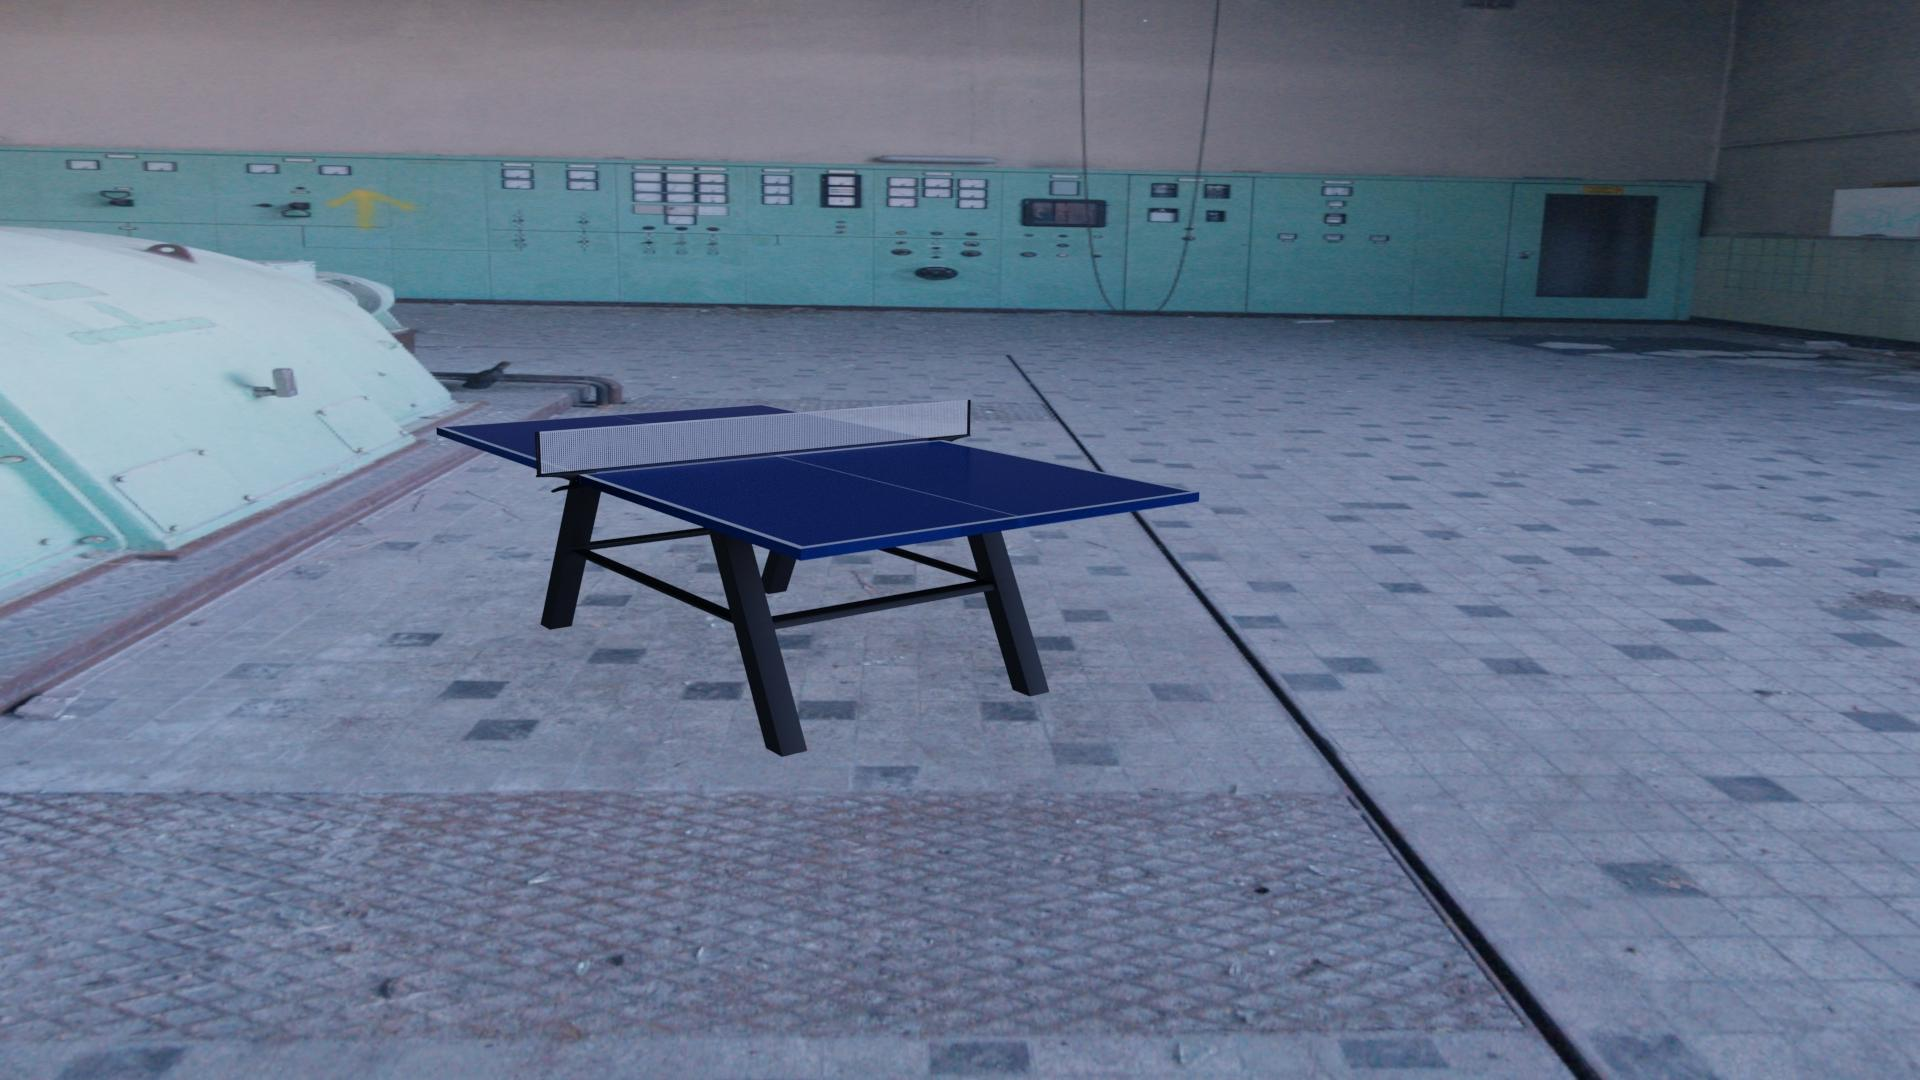table: (443, 405, 1192, 547)
